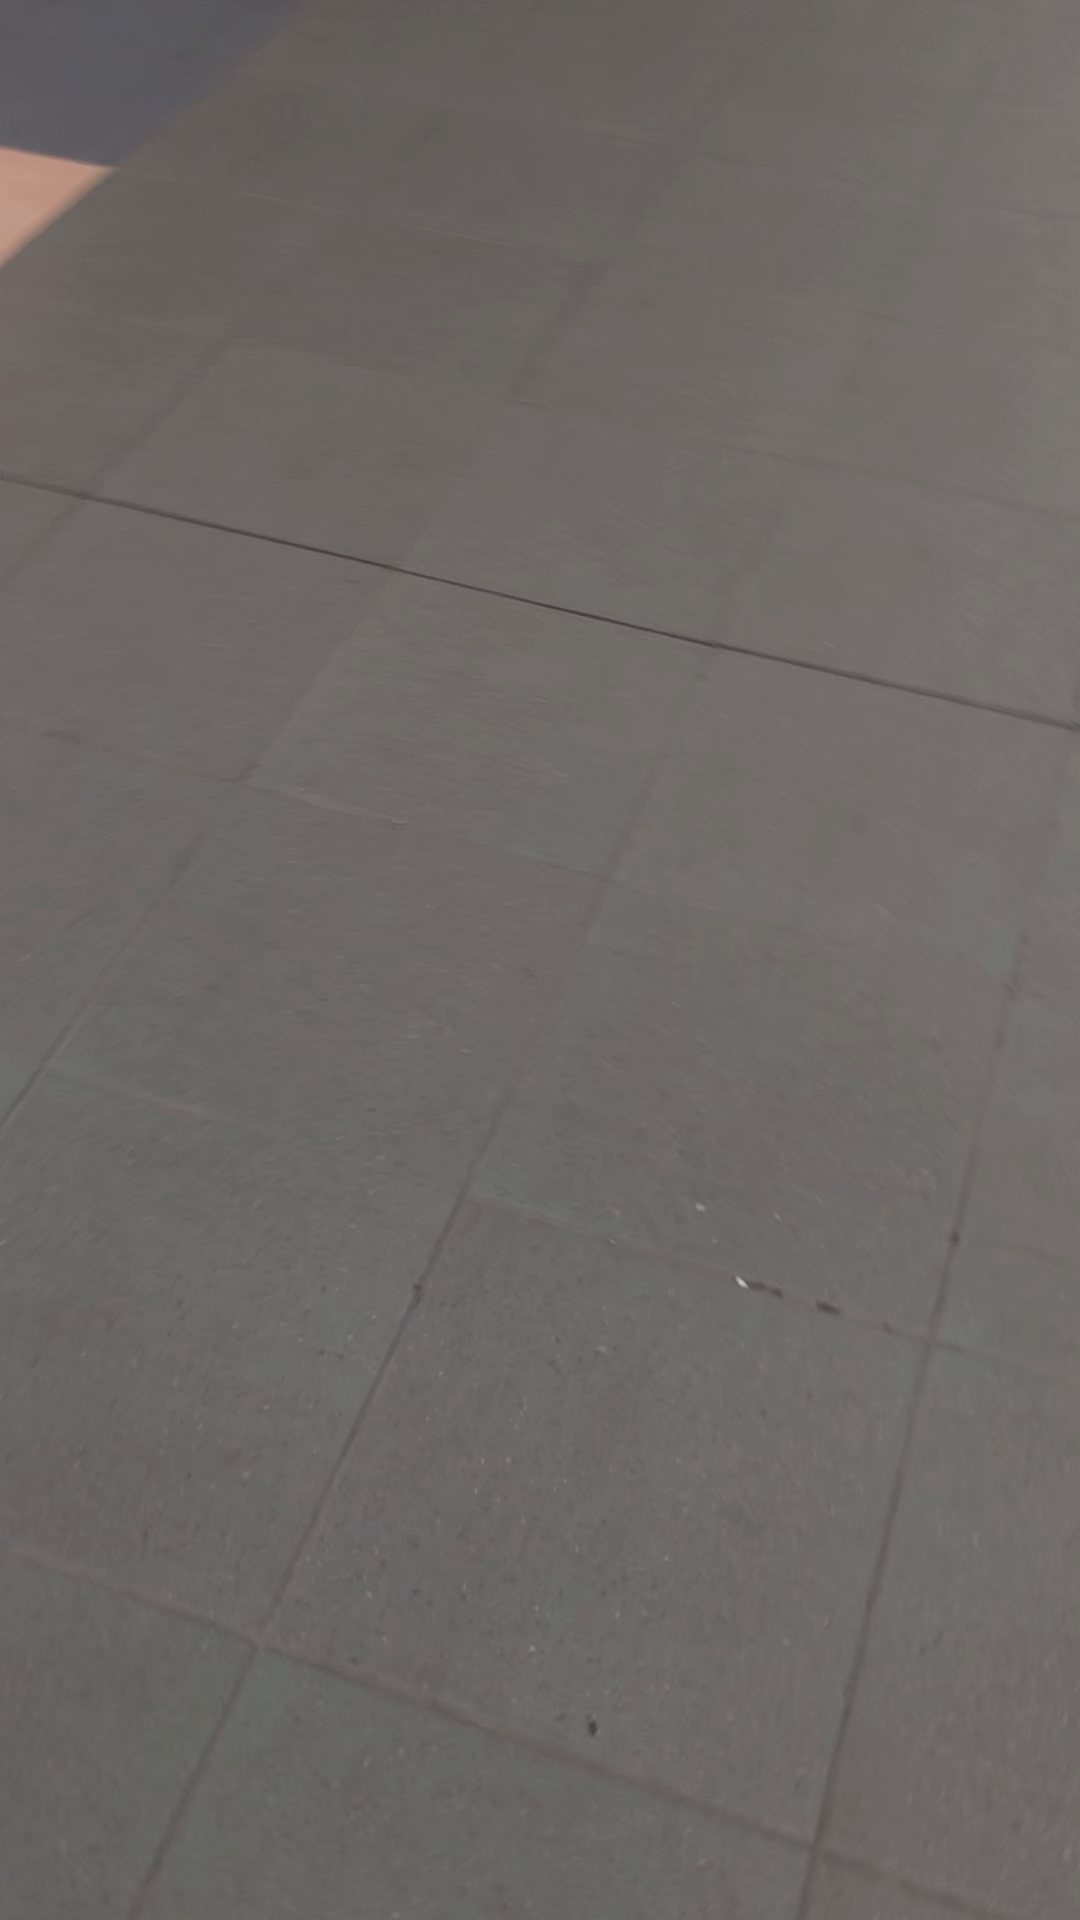Stain: (719, 1244, 861, 1344)
